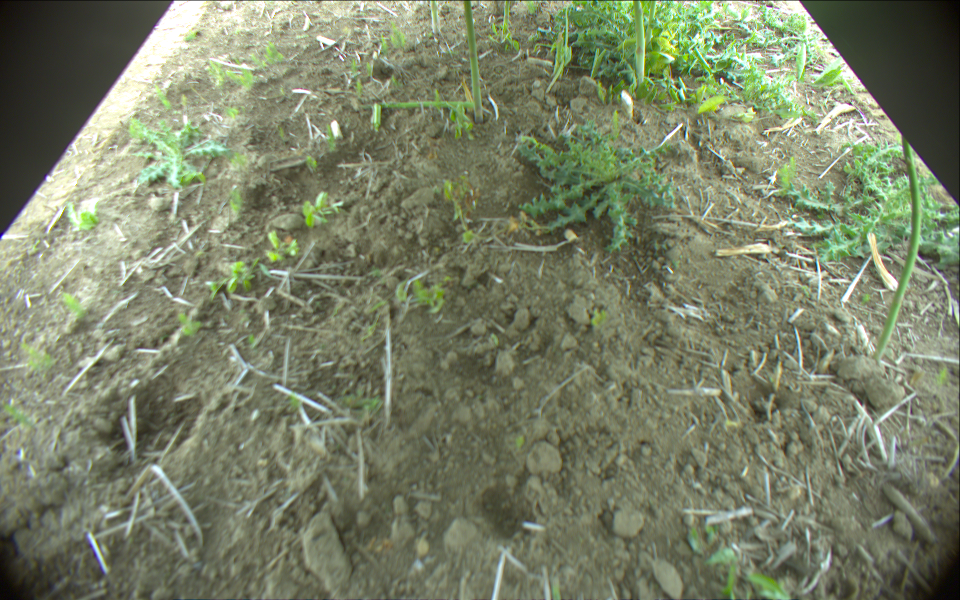aspa: (874, 134, 920, 362), (462, 1, 483, 124), (546, 1, 569, 92), (632, 1, 646, 84), (376, 100, 472, 109), (500, 1, 512, 41), (429, 1, 438, 34)
